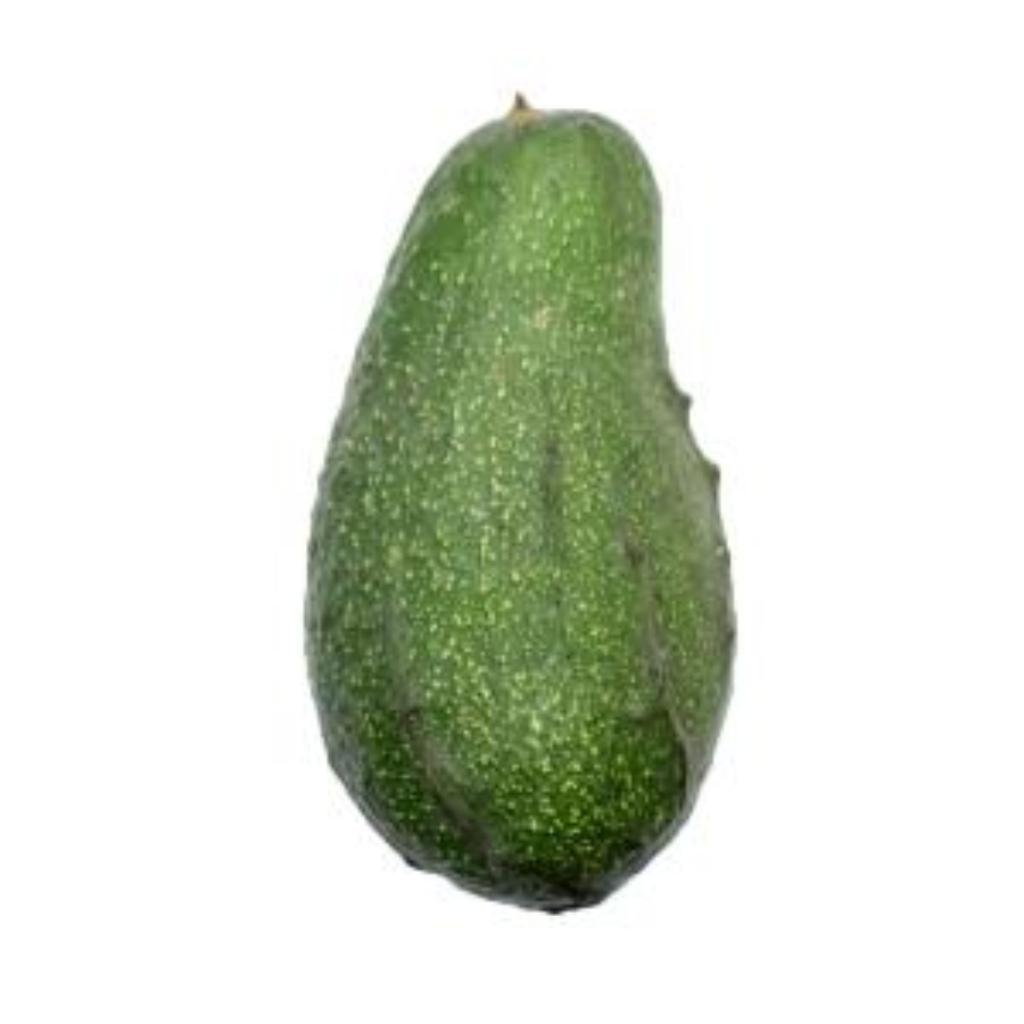cercospora: (301, 102, 741, 911)
